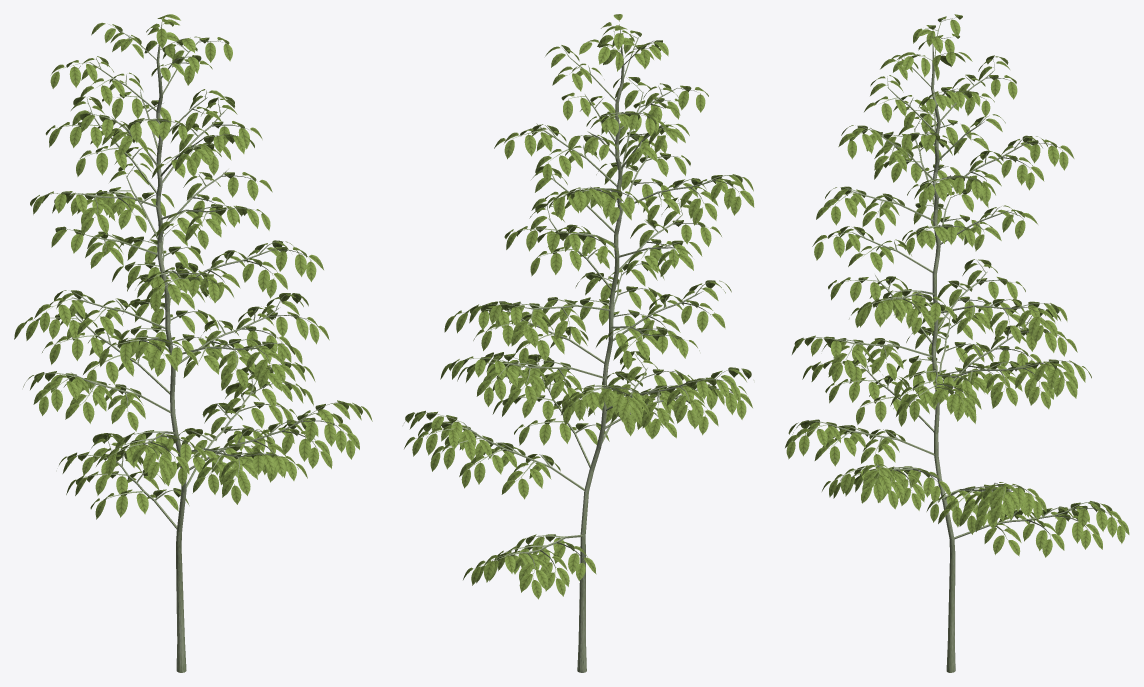
Rendered from arvore2.fbx.
The picture shows the model from 3 angles, left to right: view 1: azimuth 30°, elevation 25°; view 2: azimuth 150°, elevation 25°; view 3: azimuth 270°, elevation 25°; orthographic projection. The views are drawn at different scales.
Parts seen in each view (by area): view 1: MH_Tree01_01_Shape; view 2: MH_Tree01_01_Shape; view 3: MH_Tree01_01_Shape.
Part boxes in pixels (box(x1,y1,x2,y2)): MH_Tree01_01_Shape: box(14, 14, 372, 672); MH_Tree01_01_Shape: box(404, 14, 754, 672); MH_Tree01_01_Shape: box(785, 14, 1129, 672).
Bounding box in the file's own units: 131 × 262 × 130.
Materials: 4 (4 with a texture image).
